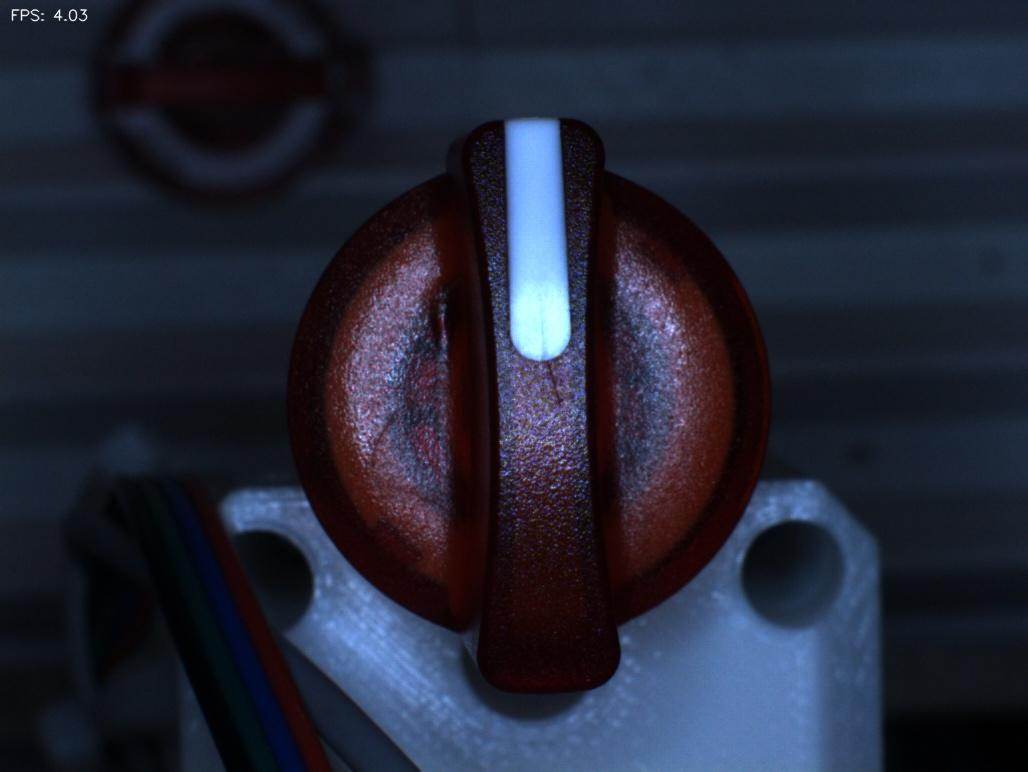Choc: (402, 274, 476, 376)
